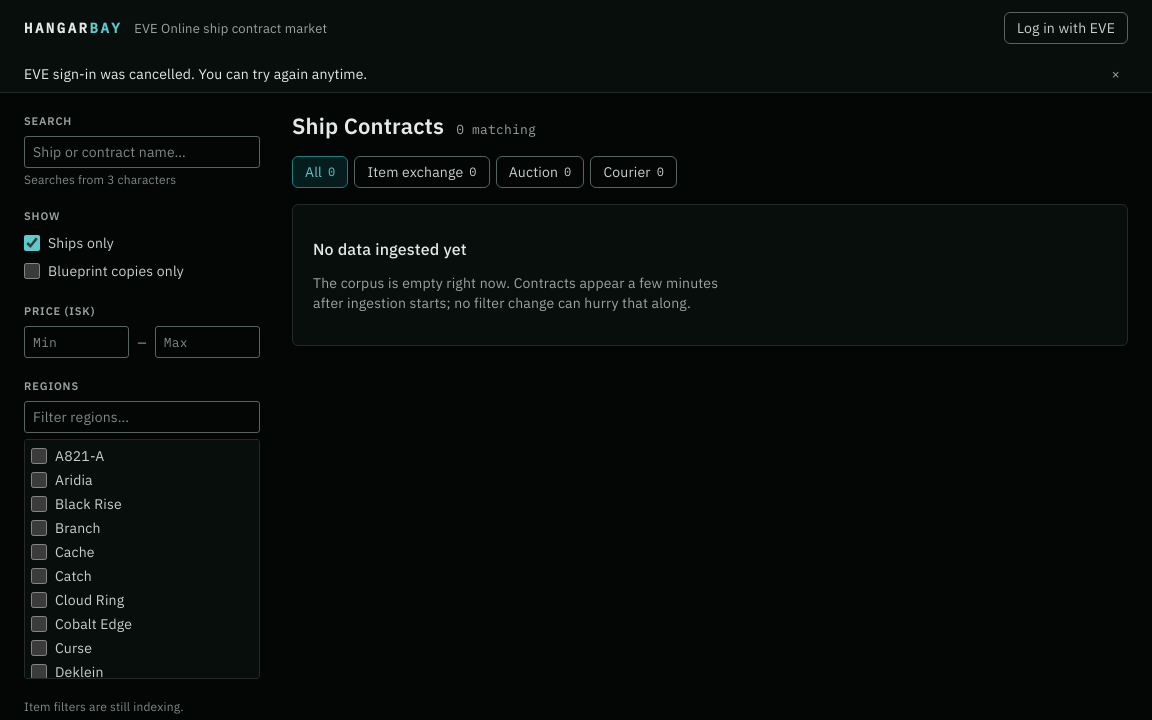
it: SsoNotice › renders the denied notice and strips ?sso on dismiss
The image size is (1152, 720).
Check: the text "EVE sign-in was cancelled. You can try again anytime." is shown, box [24, 64, 367, 84]
Click the button named "dismiss" at (1116, 74), box [1103, 64, 1128, 84]
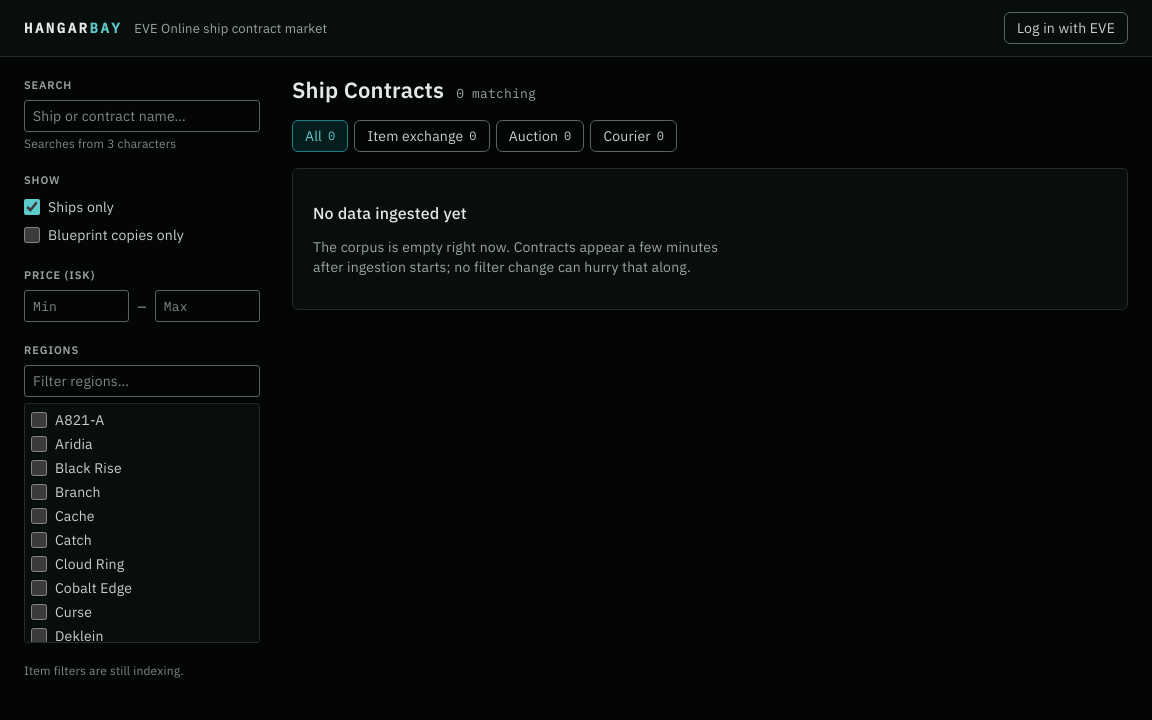
Check: the text "cancelled" is gone
